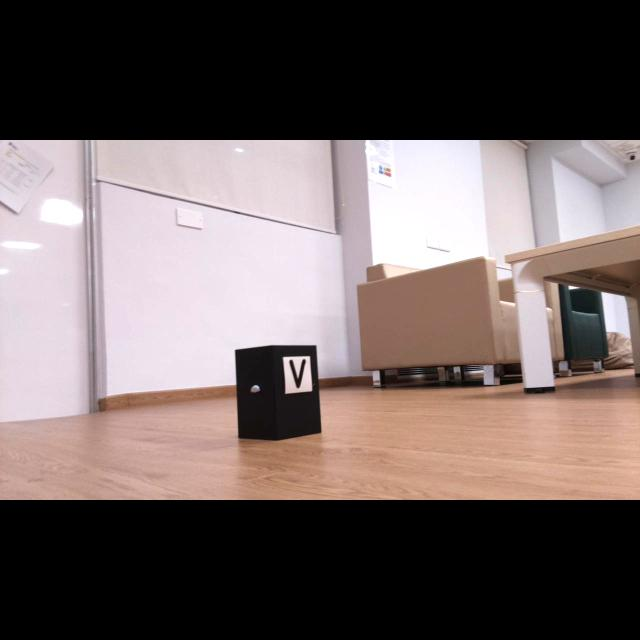V: (289, 359, 306, 388)
